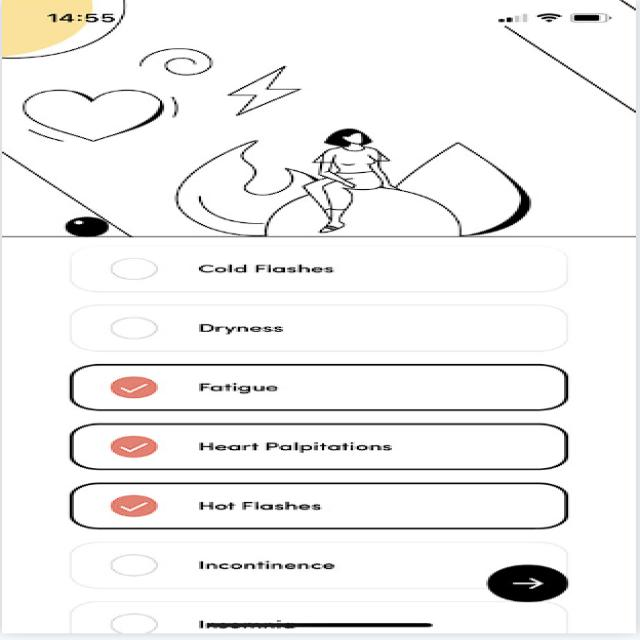icon button: (469, 558, 588, 610)
image: (6, 2, 640, 237)
row: (36, 296, 584, 355), (36, 477, 591, 533), (42, 360, 586, 416), (36, 419, 588, 473), (36, 242, 577, 293)
